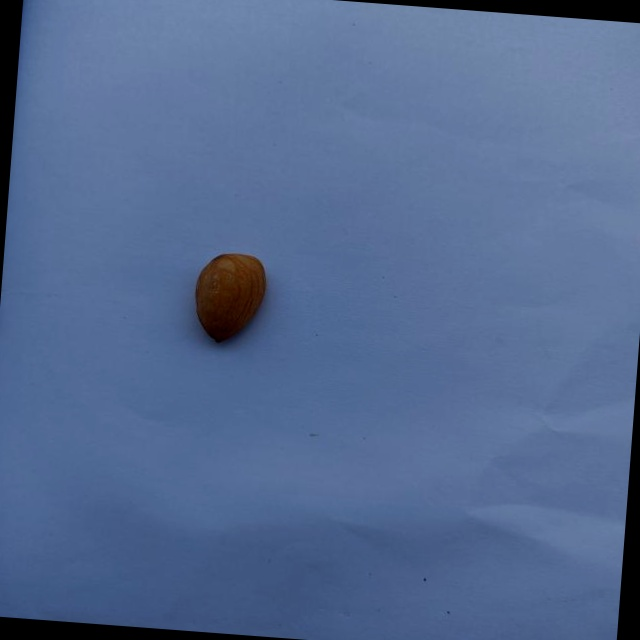grade2: (188, 247, 275, 349)
